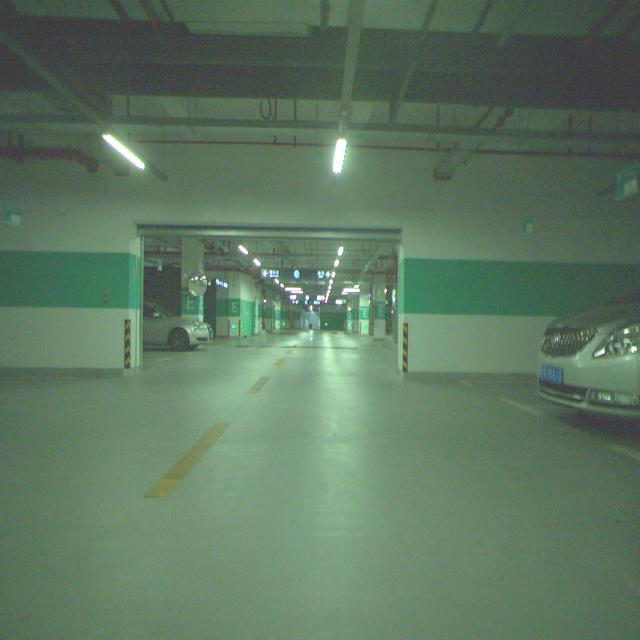pillar: (181, 238, 204, 320)
